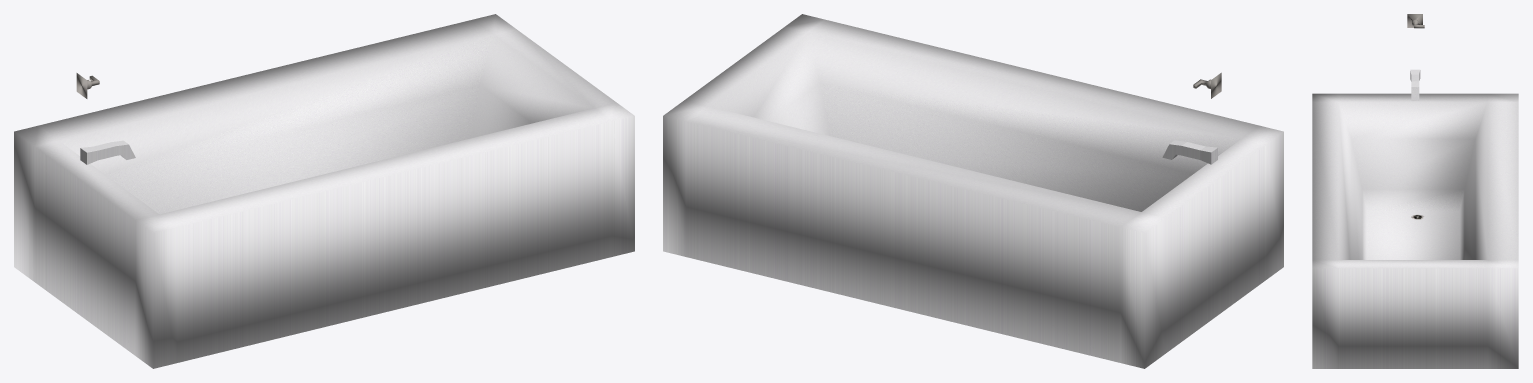
File: Bathtub.fbx_Scene.fbx
The picture shows the model from 3 angles, left to right: view 1: azimuth 30°, elevation 25°; view 2: azimuth 150°, elevation 25°; view 3: azimuth 270°, elevation 25°; orthographic projection. The views are drawn at different scales.
Parts seen in each view (by area): view 1: Bathtub; view 2: Bathtub; view 3: Bathtub.
Boxes of the visible parts, <box> form: Bathtub: <box>14,14,634,368</box>; Bathtub: <box>663,14,1283,368</box>; Bathtub: <box>1312,14,1518,368</box>.
Bounding box in the file's own units: 241 × 115 × 120.
Materials: 1 (1 with a texture image).
